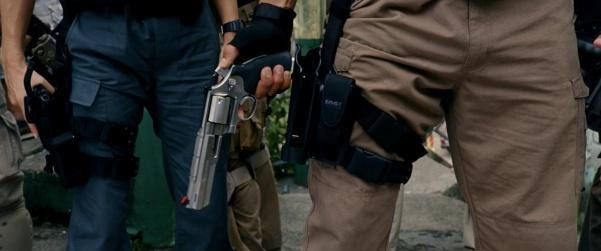Gun: (183, 53, 296, 213)
